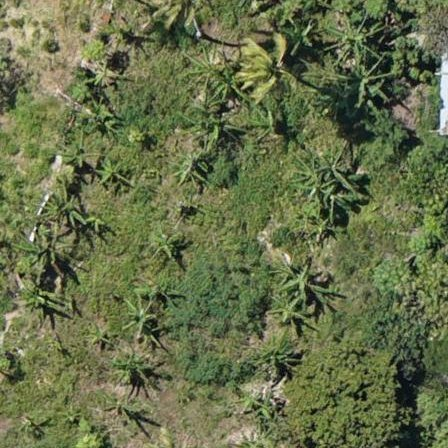palm_tree: (234, 31, 309, 111)
